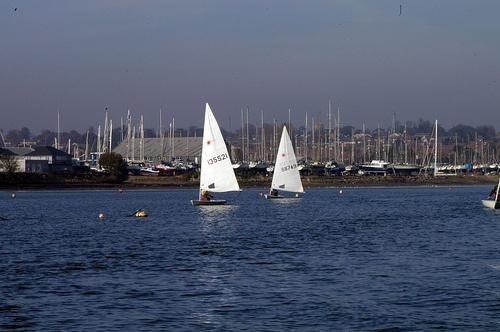boat: (189, 104, 243, 206), (261, 126, 306, 204), (481, 183, 500, 211)
